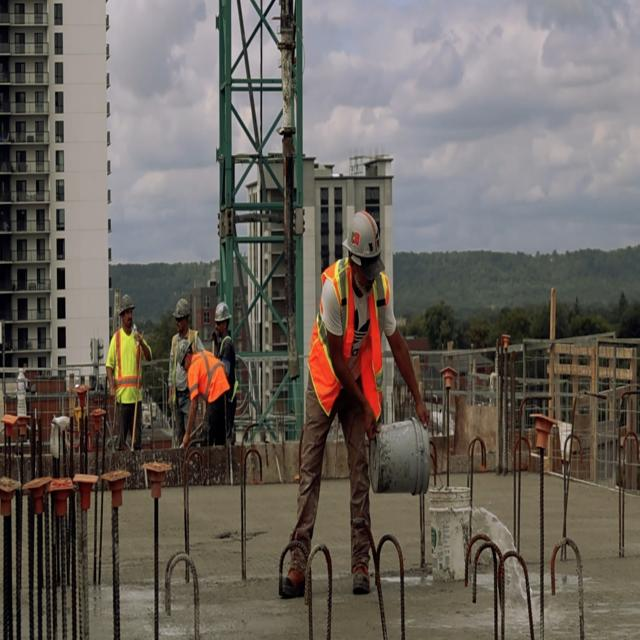Boots: (276, 555, 312, 603), (347, 556, 374, 597)
Helmet: (345, 209, 378, 259), (177, 346, 194, 375), (116, 293, 136, 315), (173, 296, 192, 319), (212, 302, 232, 323)
Vest: (310, 257, 386, 436), (186, 331, 234, 402), (108, 326, 141, 405)
